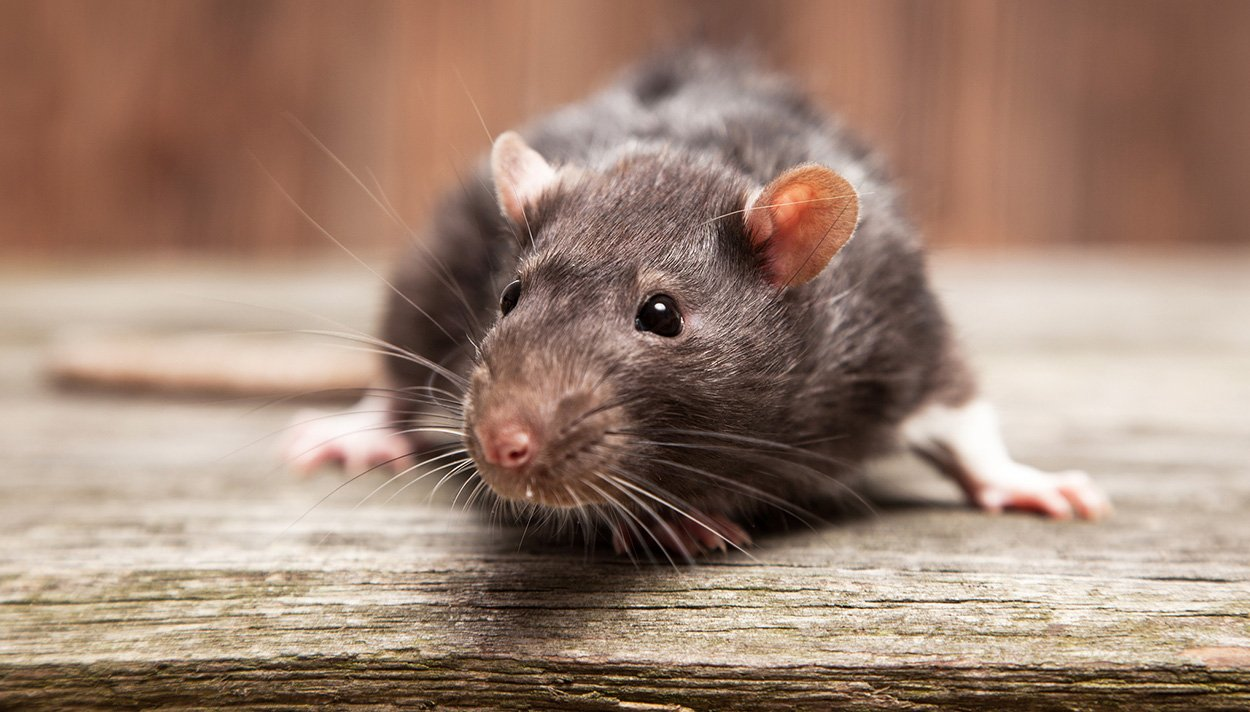rat: (309, 18, 1057, 590)
